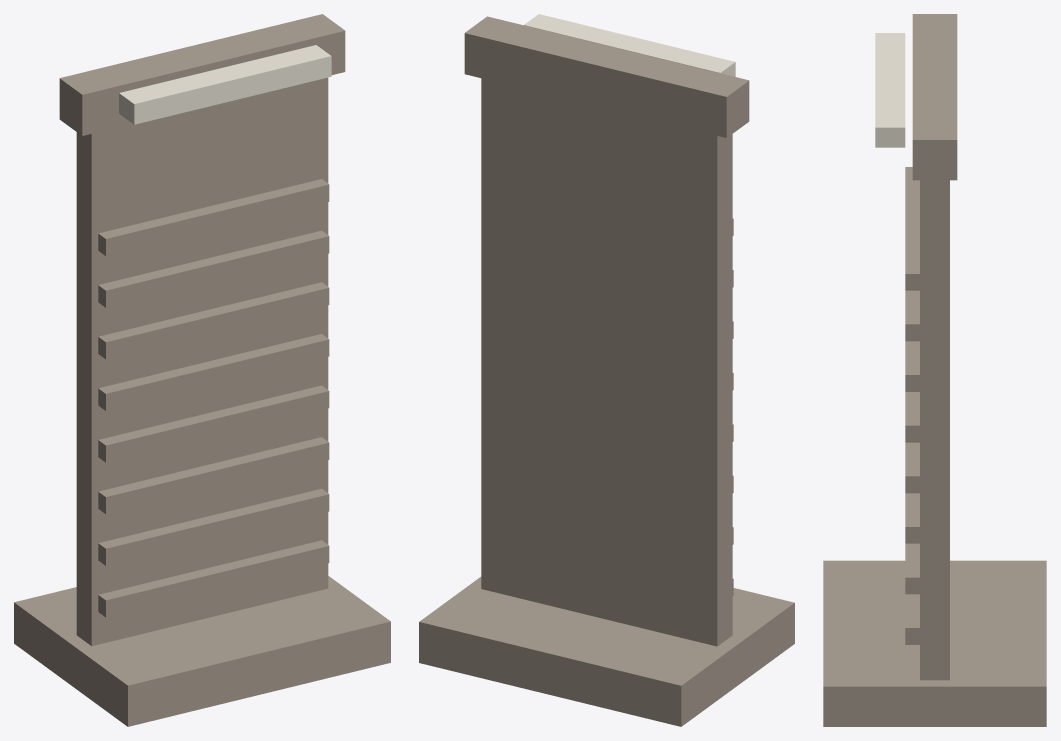
File: prop-scouring-board.fbx
The picture shows the model from 3 angles, left to right: view 1: azimuth 30°, elevation 25°; view 2: azimuth 150°, elevation 25°; view 3: azimuth 270°, elevation 25°; orthographic projection.
Parts seen in each view (by area): view 1: prop-scouring-board; view 2: prop-scouring-board; view 3: prop-scouring-board.
Boxes of the visible parts, x1,y1,x2,y2 form: prop-scouring-board: (14, 14, 390, 726); prop-scouring-board: (419, 14, 794, 726); prop-scouring-board: (823, 14, 1046, 726).
Size of the model in its own units: 40 by 87 by 30.
